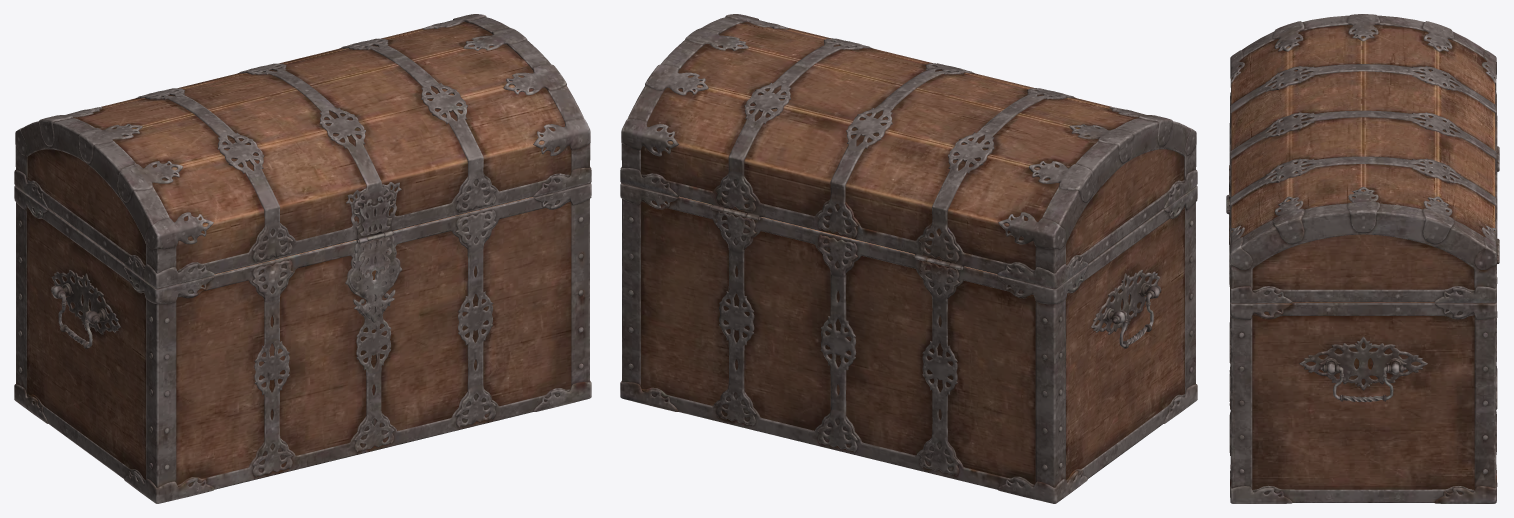
File: chest.glb
3 views of the same model, side by side, from view 1: azimuth 30°, elevation 25°; view 2: azimuth 150°, elevation 25°; view 3: azimuth 270°, elevation 25° (orthographic). The views are drawn at different scales.
Parts seen in each view (by area): view 1: treasure_chest_bottom; view 2: treasure_chest_bottom; view 3: treasure_chest_bottom.
Part boxes in pixels (left/top/right/bottom): treasure_chest_bottom: left=14, top=14, right=591, bottom=503; treasure_chest_bottom: left=620, top=14, right=1197, bottom=503; treasure_chest_bottom: left=1226, top=14, right=1499, bottom=503.
Bounding box in the file's own units: 0.959 × 0.619 × 0.5229.
1 material, 1 textured.
